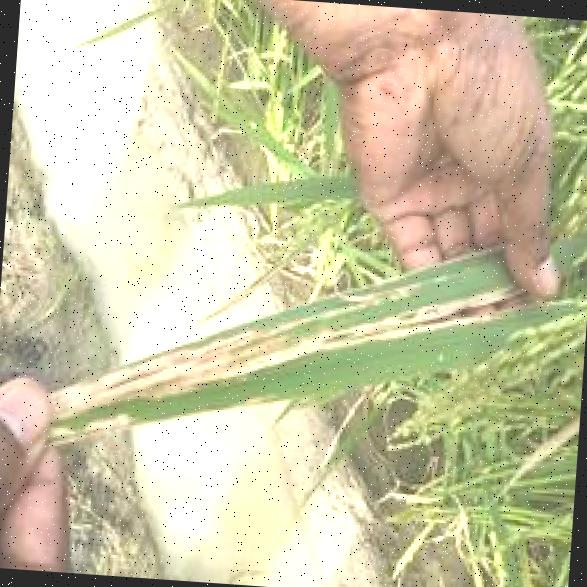Bacteria_Leaf_Blight: (112, 258, 518, 404)
